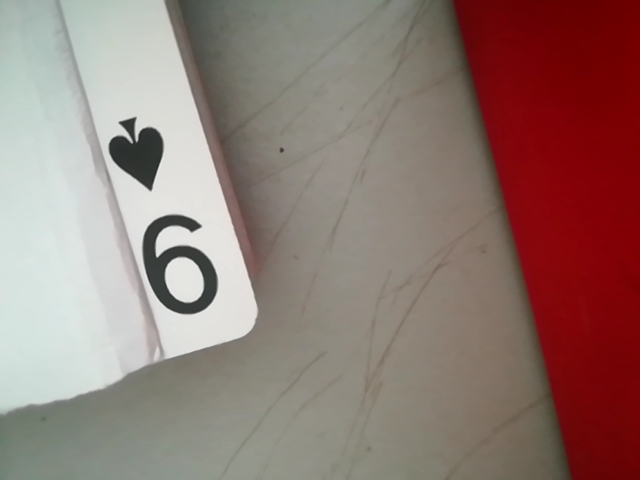ht 9: (78, 94, 237, 357)
